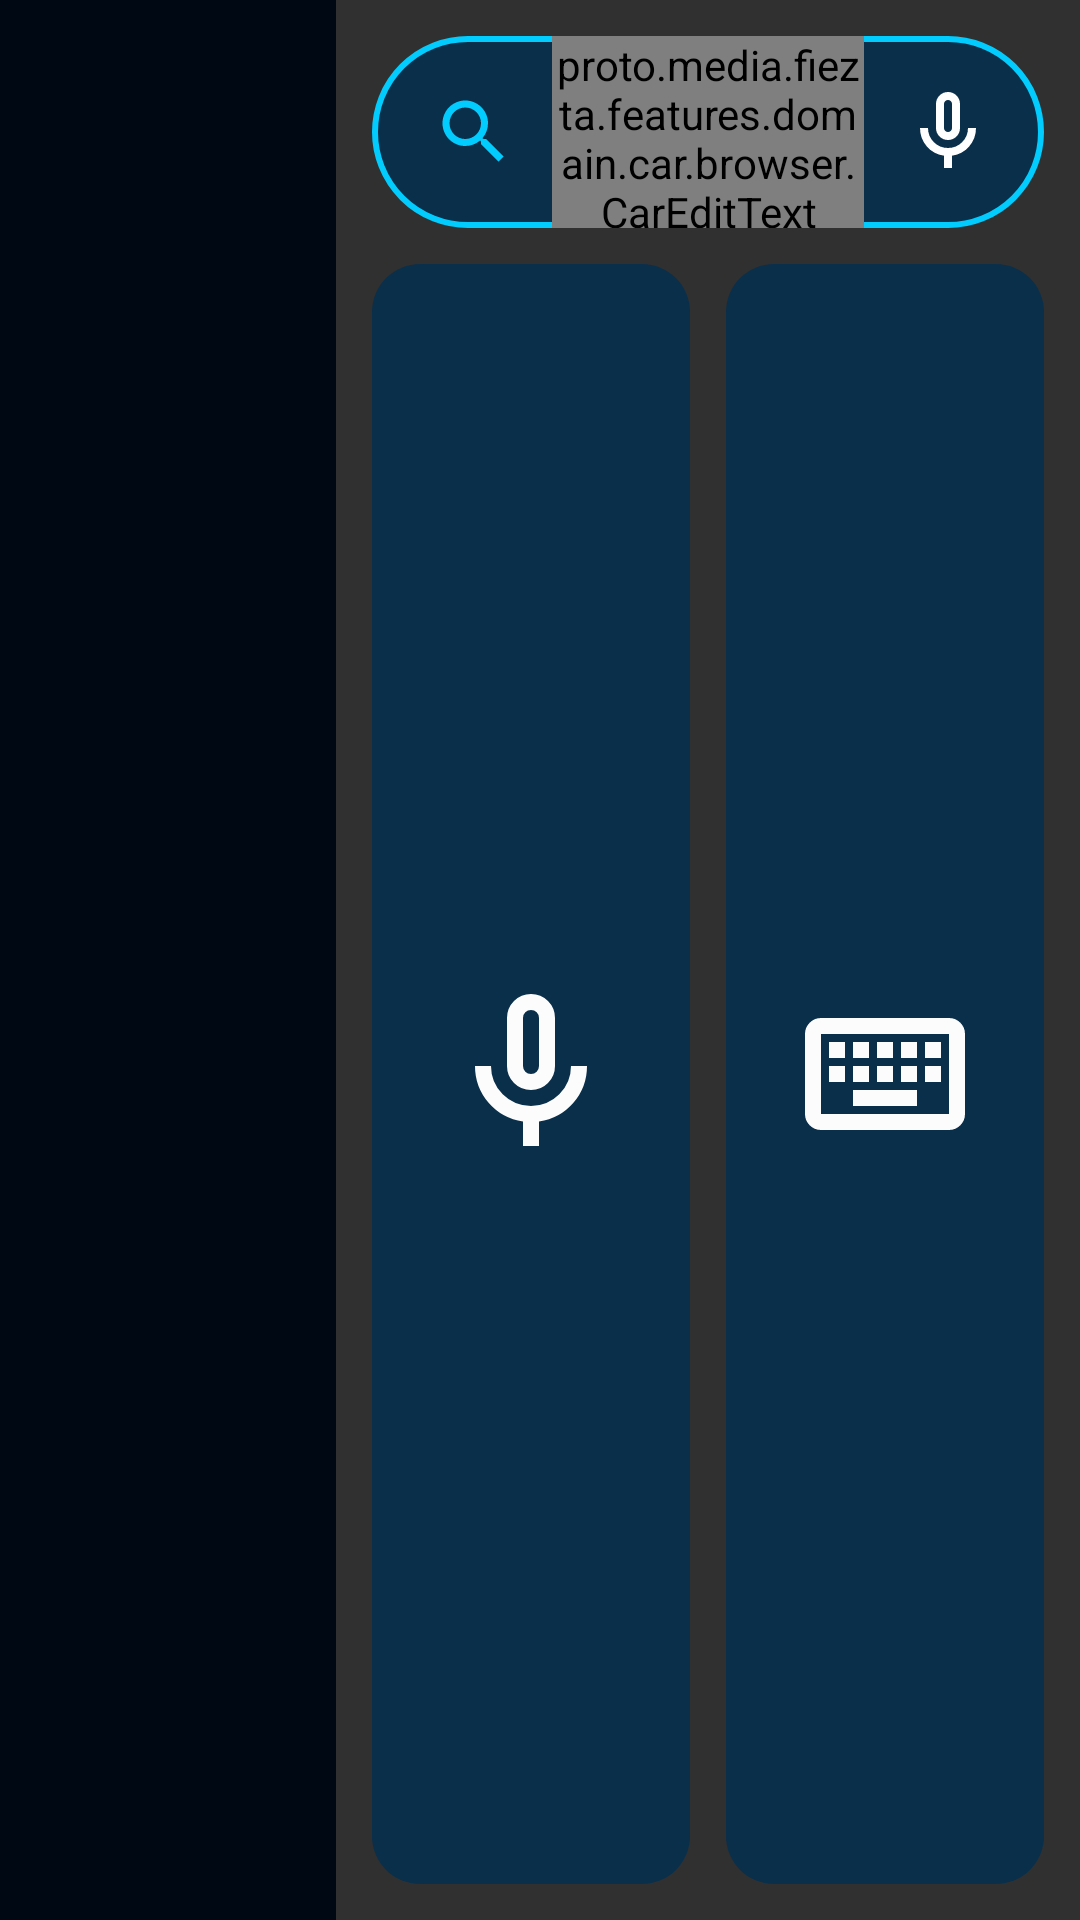

Where to tap for icons on this 1080px x 1920px app screen, as (x,y):
car keyboard: (885,1074)
car voice: (531,1070)
mozac search: (473,131)
